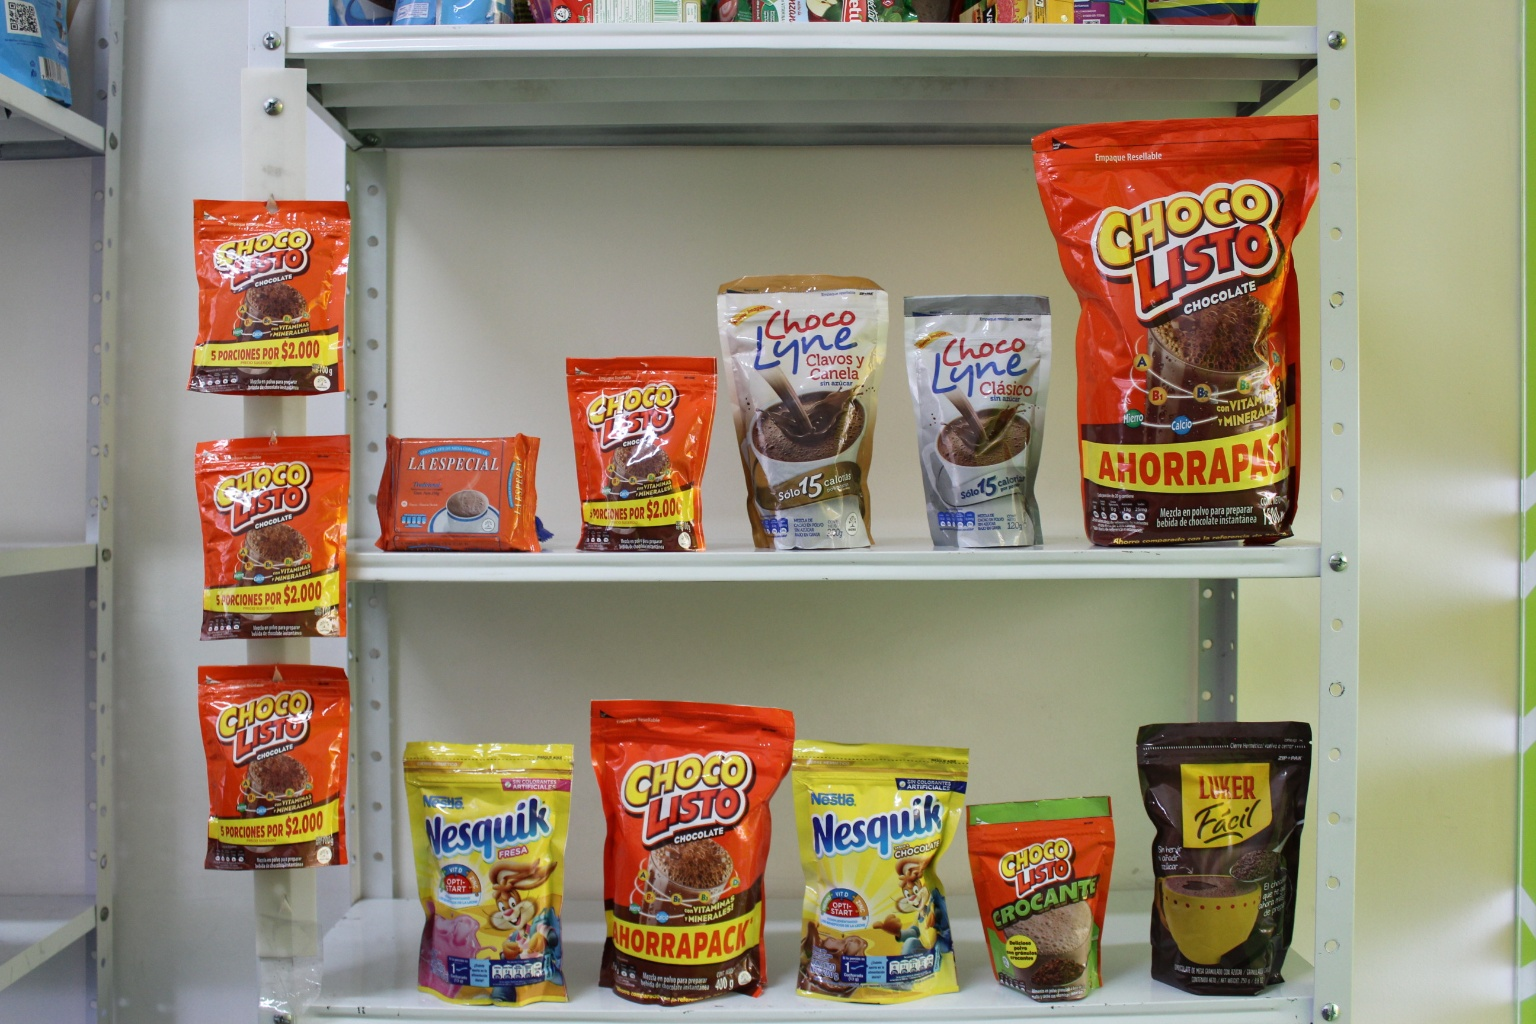COL0170102DYP10000: (965, 789, 1126, 1008)
COL0170103DYP1,500: (1026, 103, 1323, 550)
COL0170103DYP10000: (173, 195, 365, 398)
COL0170103DYP40000: (567, 693, 797, 1006)
COL0170303DYP20000: (791, 735, 975, 1009)
COL0170305DYP20000: (395, 731, 577, 1008)
